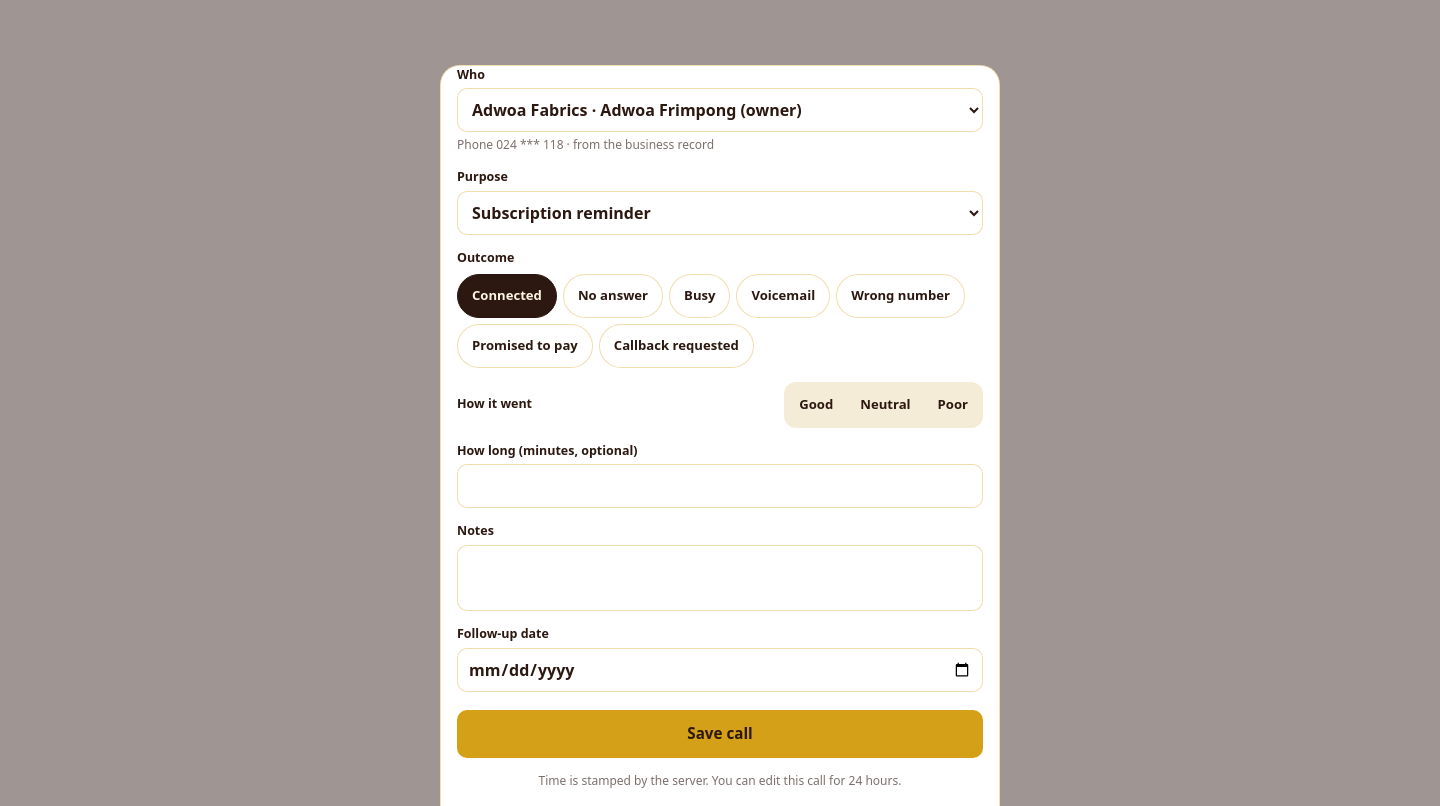
LogCallSheet › shows the server message when a save is refused
This screenshot has width=1440, height=806.
(page scrolled)
What coordinates should you click on to do the following:
click the button "Save call"
I would click on:
 (720, 734)
Its box is [457, 710, 983, 758].
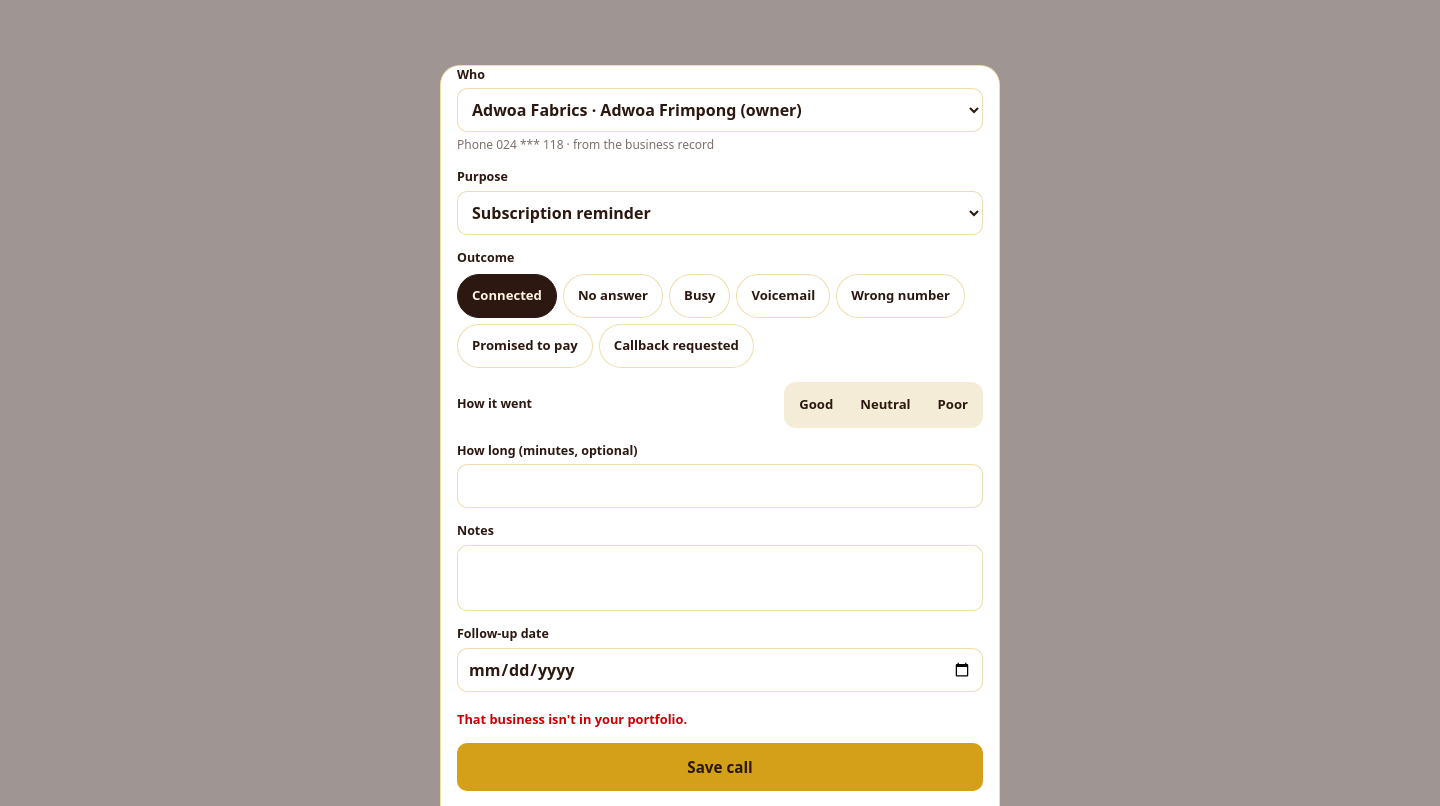
Now the text "That business isn't in your portfolio." is shown, box [457, 710, 687, 728]
